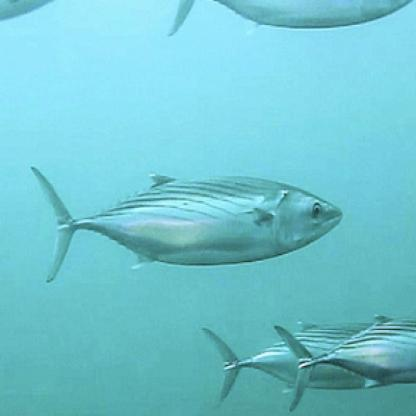tuna: (25, 162, 351, 287)
